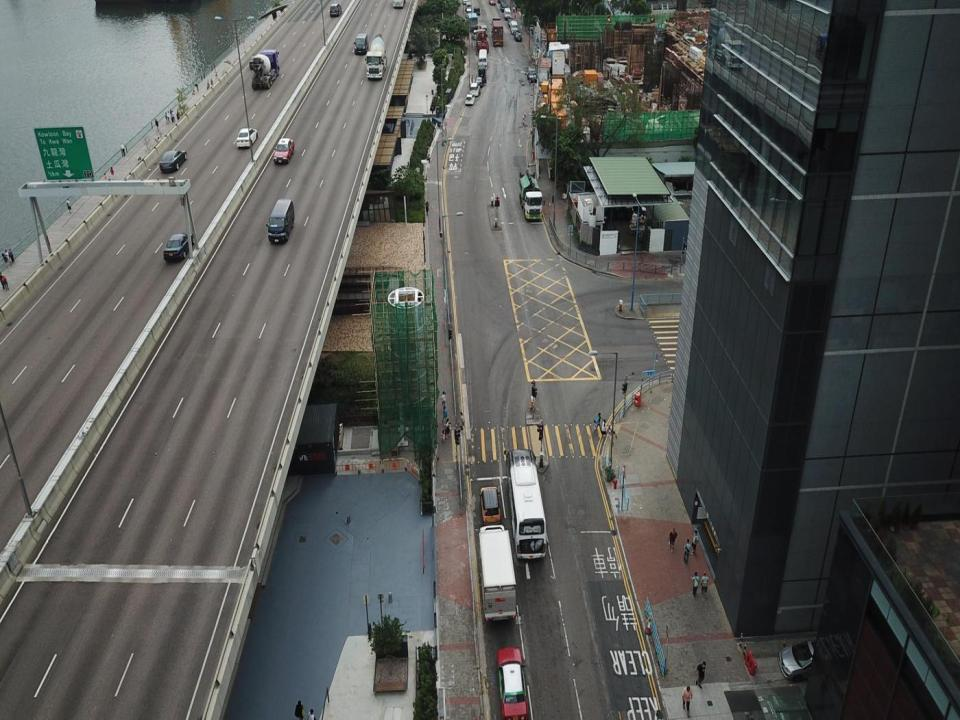bus: (503, 446, 547, 562)
car: (777, 638, 843, 682), (496, 646, 528, 719), (162, 231, 196, 262), (479, 485, 502, 526), (159, 149, 188, 172), (273, 137, 295, 165), (236, 126, 258, 150), (328, 3, 343, 17), (248, 55, 263, 68), (469, 82, 480, 97), (464, 92, 475, 105), (480, 23, 488, 37), (474, 75, 482, 87), (513, 30, 521, 42), (473, 4, 480, 16)
truck: (474, 524, 516, 622), (251, 50, 281, 92), (518, 170, 542, 221), (365, 34, 388, 81), (490, 16, 505, 48), (475, 28, 490, 53), (466, 10, 478, 34)
van: (266, 197, 297, 244), (352, 32, 369, 56), (477, 48, 487, 68), (527, 65, 536, 83), (477, 63, 486, 78), (510, 19, 518, 35), (502, 7, 511, 18)
